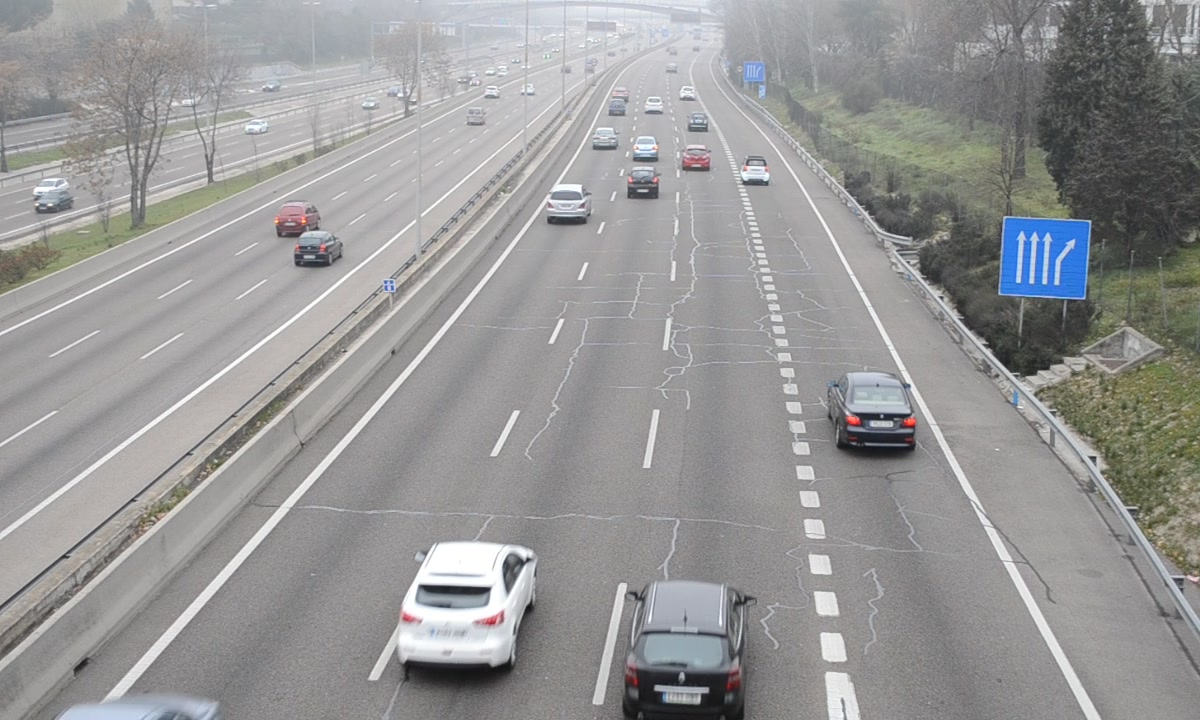car: (398, 542, 538, 674), (624, 580, 745, 720), (828, 369, 921, 451), (544, 183, 592, 226), (625, 167, 661, 201), (739, 154, 772, 187), (681, 144, 712, 173), (590, 127, 621, 151), (632, 135, 658, 161)
